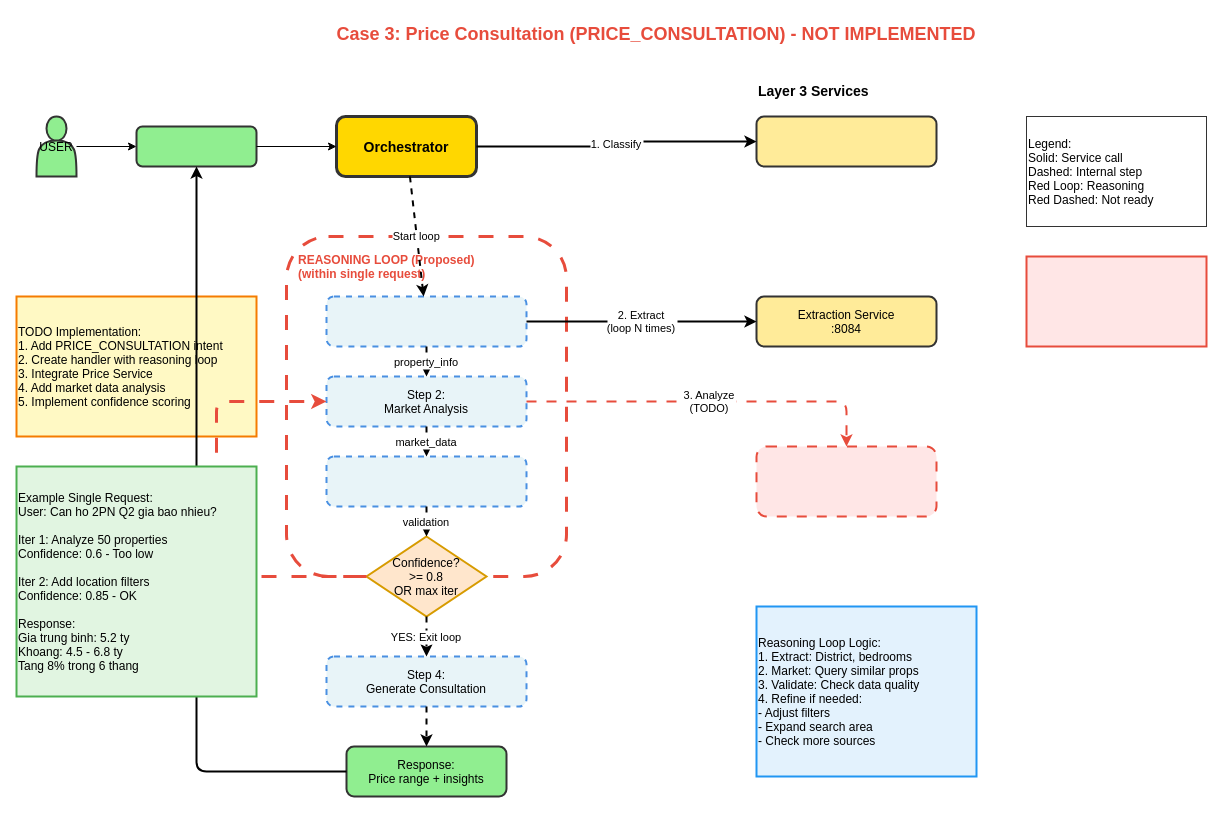
The diagram is 1223 pixels wide and 813 high, and some of its shapes have lost their labels. Here are the shapes that lost their labels. From the top down, the box of each, then its label:
(135, 125, 257, 167): Open WebUI
(755, 115, 937, 167): Classification Service :8083
(325, 295, 527, 347): Step 1: Extract Property Info
(1025, 255, 1207, 347): KEY: Reasoning loop analyzes market data multiple times for best answer
(325, 455, 527, 507): Step 3: Compare & Validate
(755, 445, 937, 517): Price Suggestion Service :8087 NOT INTEGRATED
